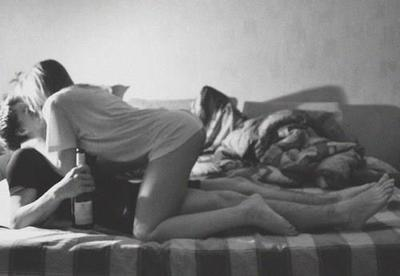Humano: (47, 62, 305, 241), (1, 97, 59, 224)
